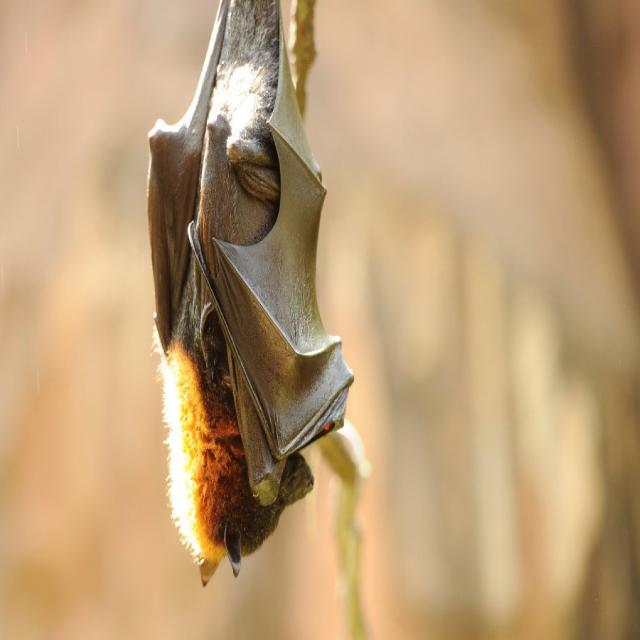bat: (147, 0, 354, 585)
